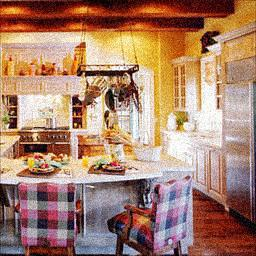Electrodomestico: (225, 59, 253, 212)
